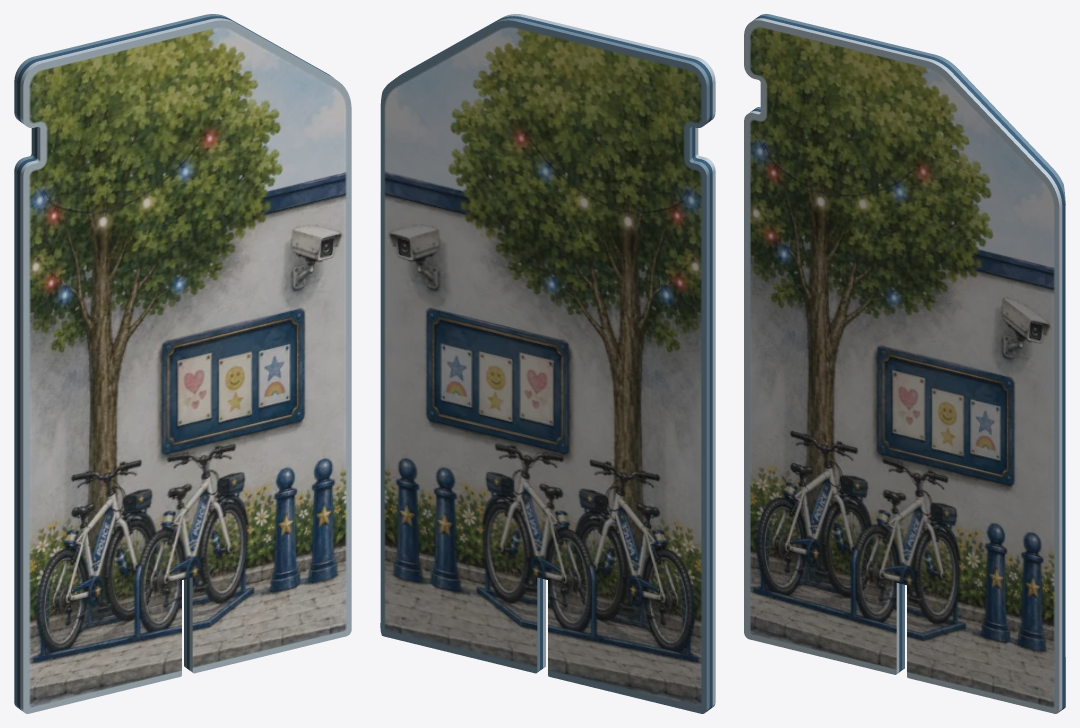
Rendered from left-panel.glb.
The picture shows the model from 3 angles, left to right: view 1: azimuth 30°, elevation 25°; view 2: azimuth 150°, elevation 25°; view 3: azimuth 330°, elevation 25°; orthographic projection. The views are drawn at different scales.
Parts seen in each view (by area): view 1: left-panel; view 2: left-panel; view 3: left-panel.
Part boxes in pixels (left/top/right/bottom): left-panel: left=14, top=14, right=351, bottom=713; left-panel: left=380, top=14, right=715, bottom=713; left-panel: left=744, top=14, right=1065, bottom=713.
Bounding box in the file's own units: 580 × 1093 × 27.
5 materials, 2 textured.
